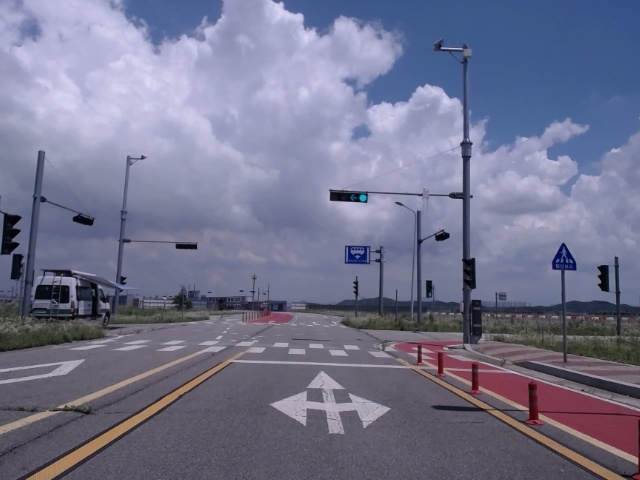all_green_4: (328, 190, 369, 202)
